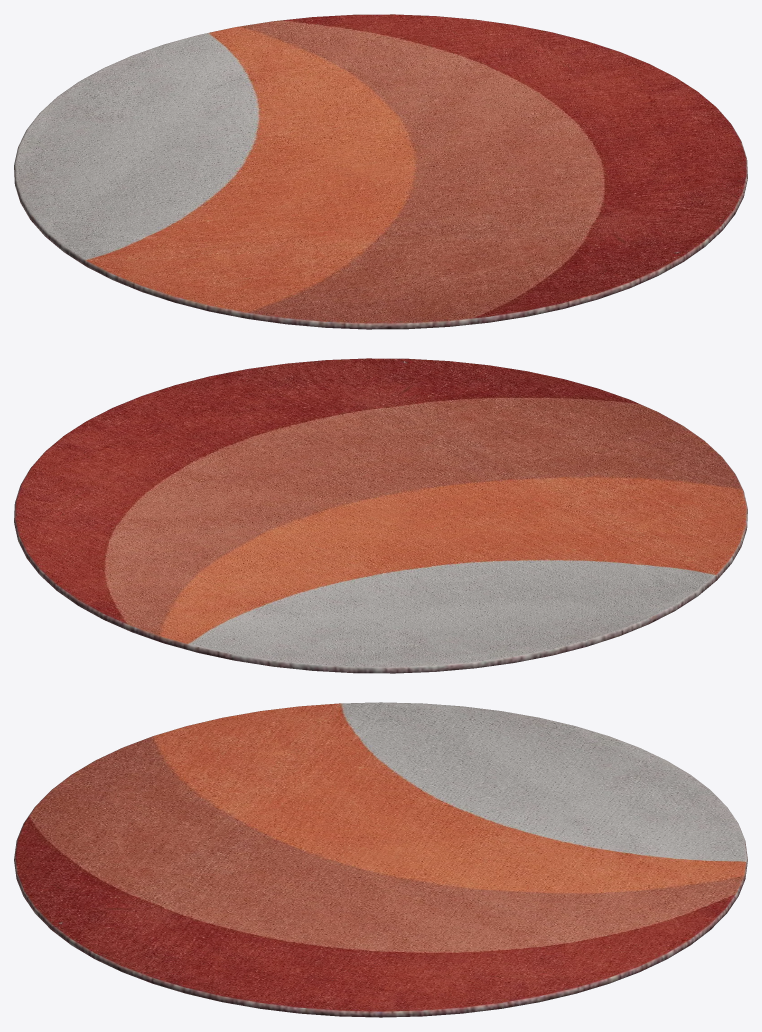
The model's file is B07HSHPJQQ.glb.
The picture shows the model from 3 angles, top to bottom: view 1: azimuth 30°, elevation 25°; view 2: azimuth 150°, elevation 25°; view 3: azimuth 270°, elevation 25°; orthographic projection.
Visible parts, largest first — view 1: RootNode; view 2: RootNode; view 3: RootNode.
Part boxes in pixels (left/top/right/bottom): RootNode: left=14, top=14, right=747, bottom=329; RootNode: left=14, top=358, right=747, bottom=673; RootNode: left=14, top=702, right=747, bottom=1017.
Size of the model in its own units: 1.51 by 0.0146 by 1.51.
1 material, 1 textured.
